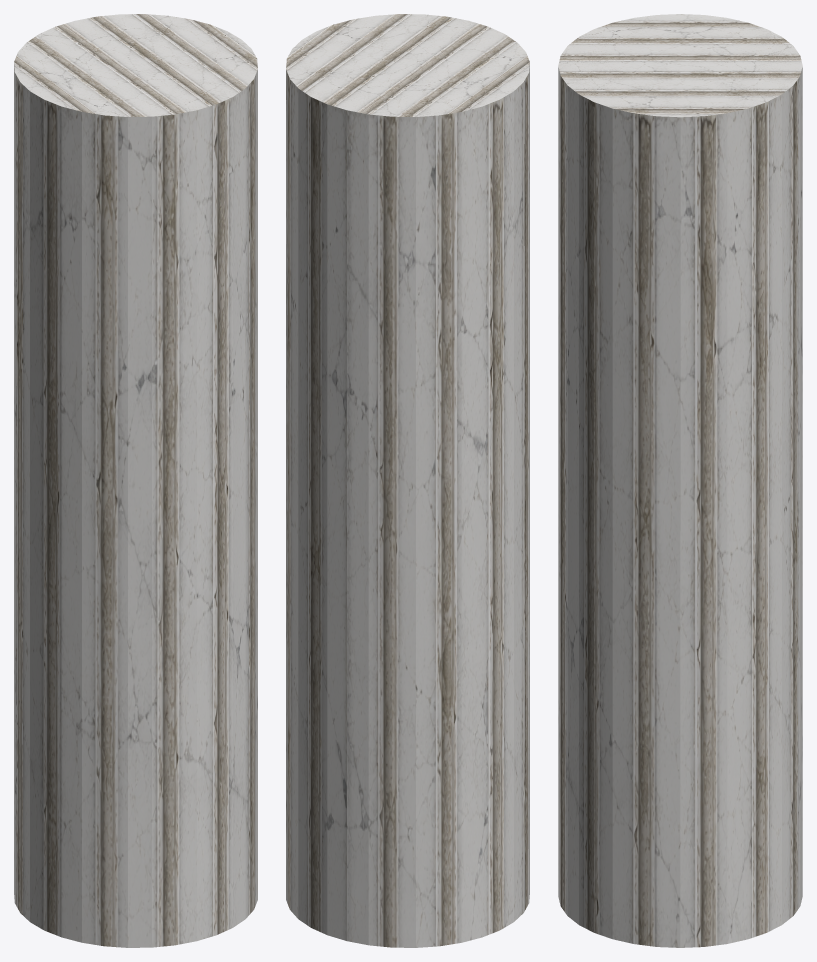
File: GreekColumnTile1.fbx
3 renders of one model, left to right at view 1: azimuth 30°, elevation 25°; view 2: azimuth 150°, elevation 25°; view 3: azimuth 270°, elevation 25°, orthographic.
Visible parts, largest first — view 1: Cylinder; view 2: Cylinder; view 3: Cylinder.
Boxes of the visible parts, left/top/right/bottom form: Cylinder: left=14, top=14, right=257, bottom=947; Cylinder: left=286, top=14, right=529, bottom=947; Cylinder: left=558, top=14, right=802, bottom=947.
Bounding box in the file's own units: 80 × 300 × 80.
